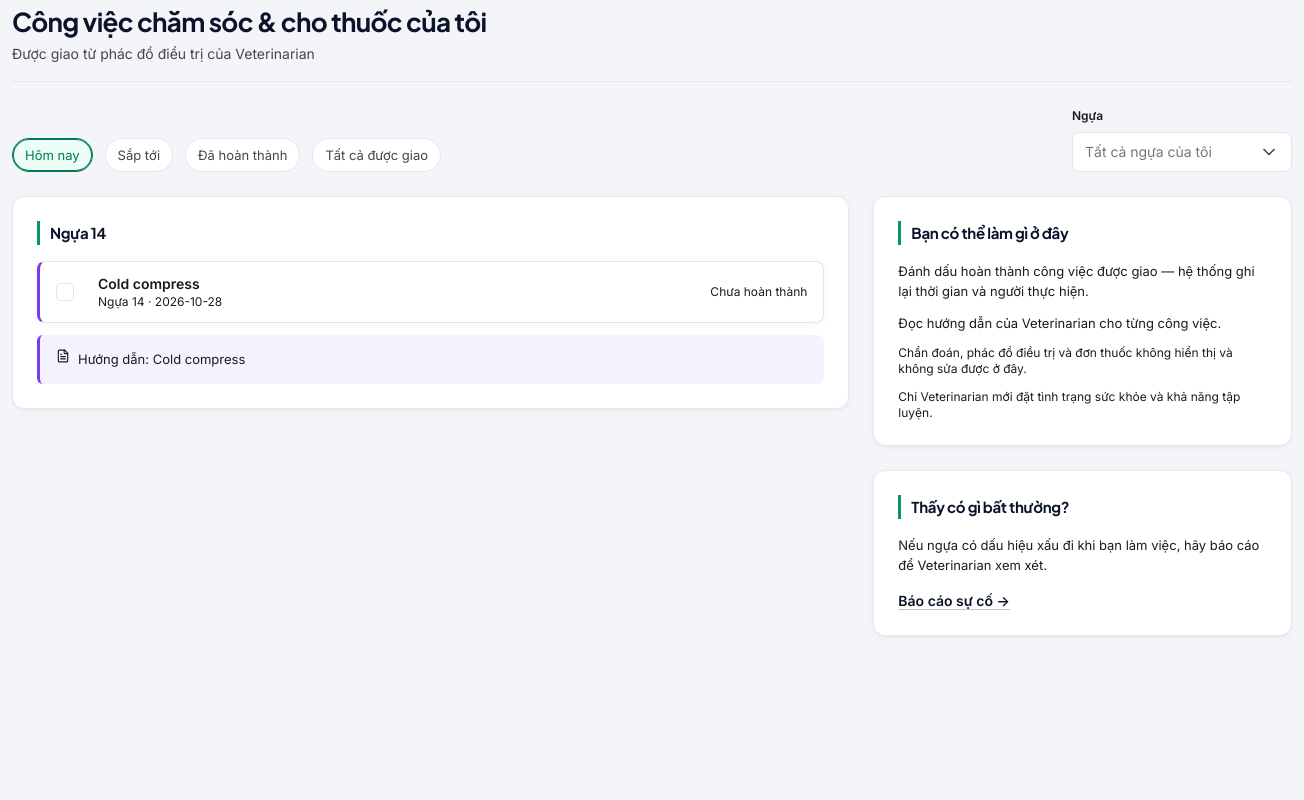
Test: provides empty state and completed/upcoming/horse filters without adding API queries
Expected: the checkbox is shown, [56, 284, 74, 302]
Click the button "Đã hoàn thành" at (243, 156), box [185, 138, 300, 172]
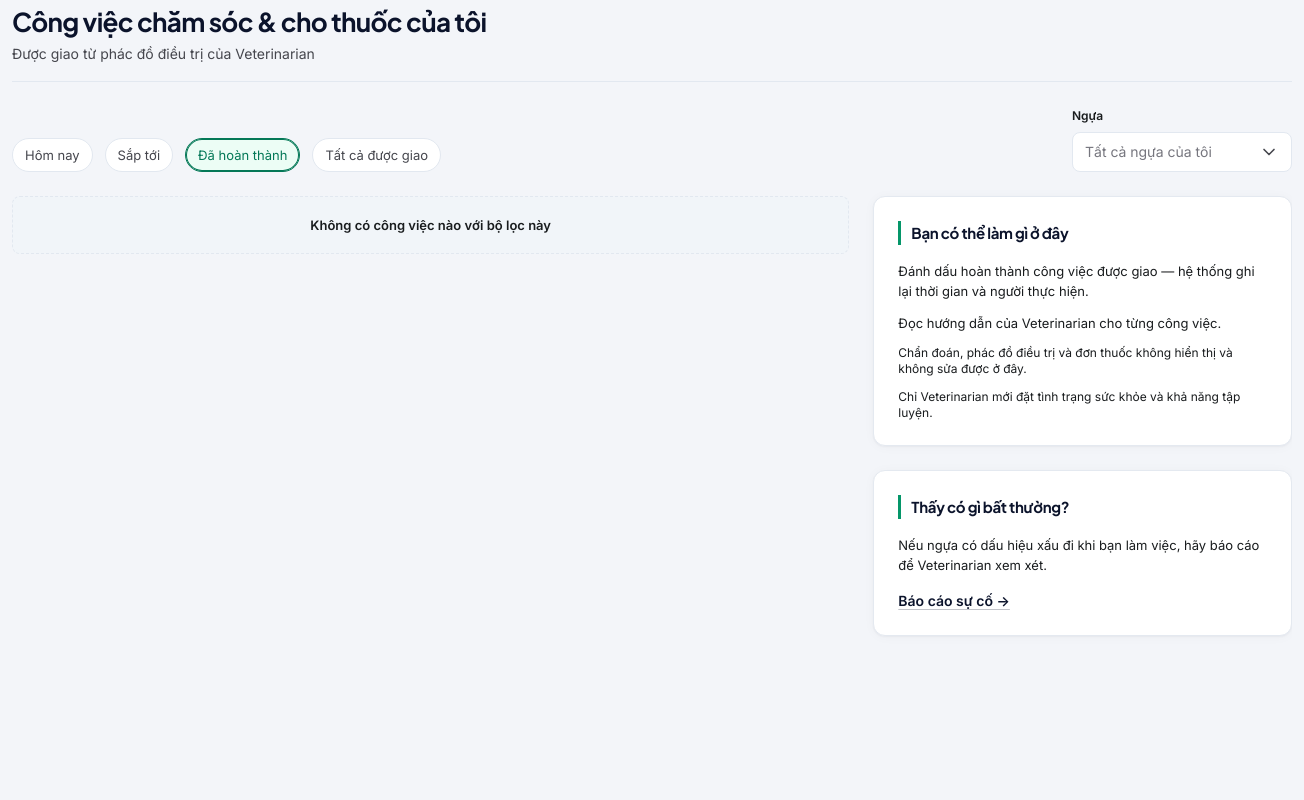
Expected: the text "Không có công việc nào với bộ lọc này" is shown, [310, 218, 551, 234]
Click the button "Sắp tới" at (139, 156), box [105, 138, 173, 172]
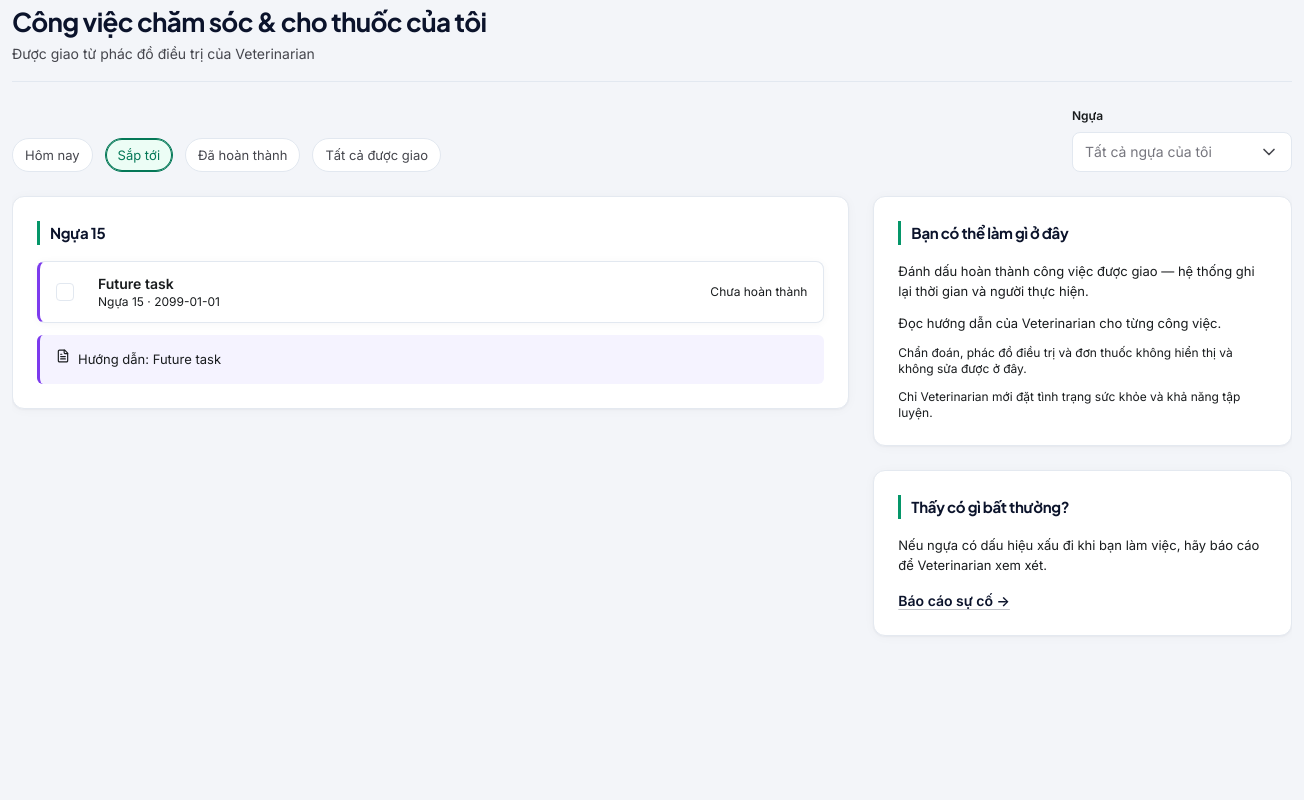
Expected: the checkbox named "Hoàn thành công việc 13" is shown, [56, 284, 74, 302]
Select "Ngựa 14" in the dropdown labelled "Ngựa" at (1182, 152), box [1073, 134, 1291, 172]
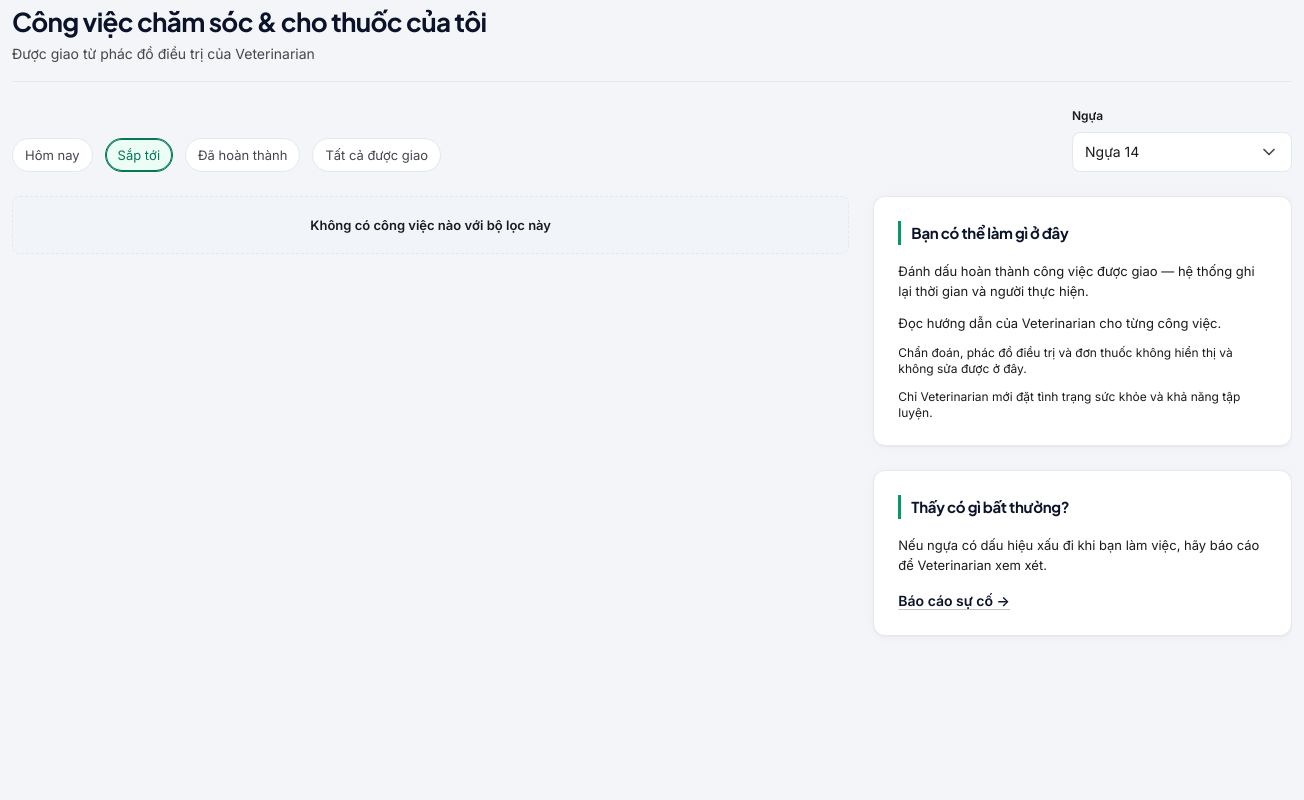
Expected: the text "Không có công việc nào với bộ lọc này" is shown, [310, 218, 551, 234]
